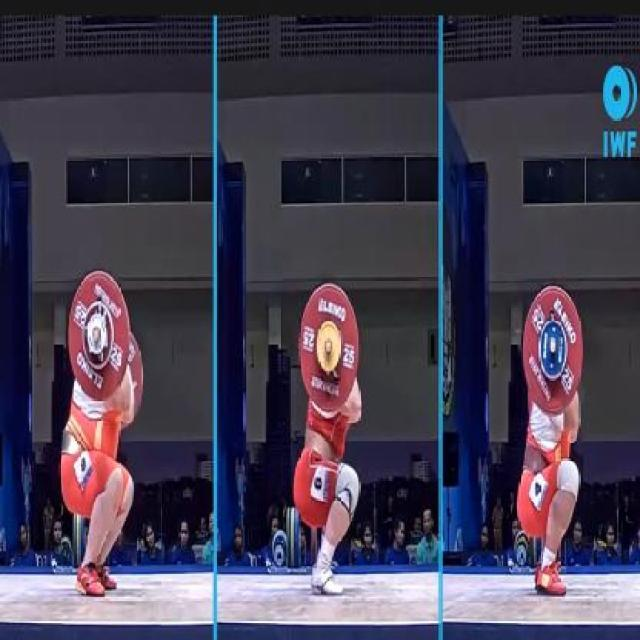barbell: (521, 281, 589, 421), (66, 267, 134, 406), (296, 279, 364, 417)
